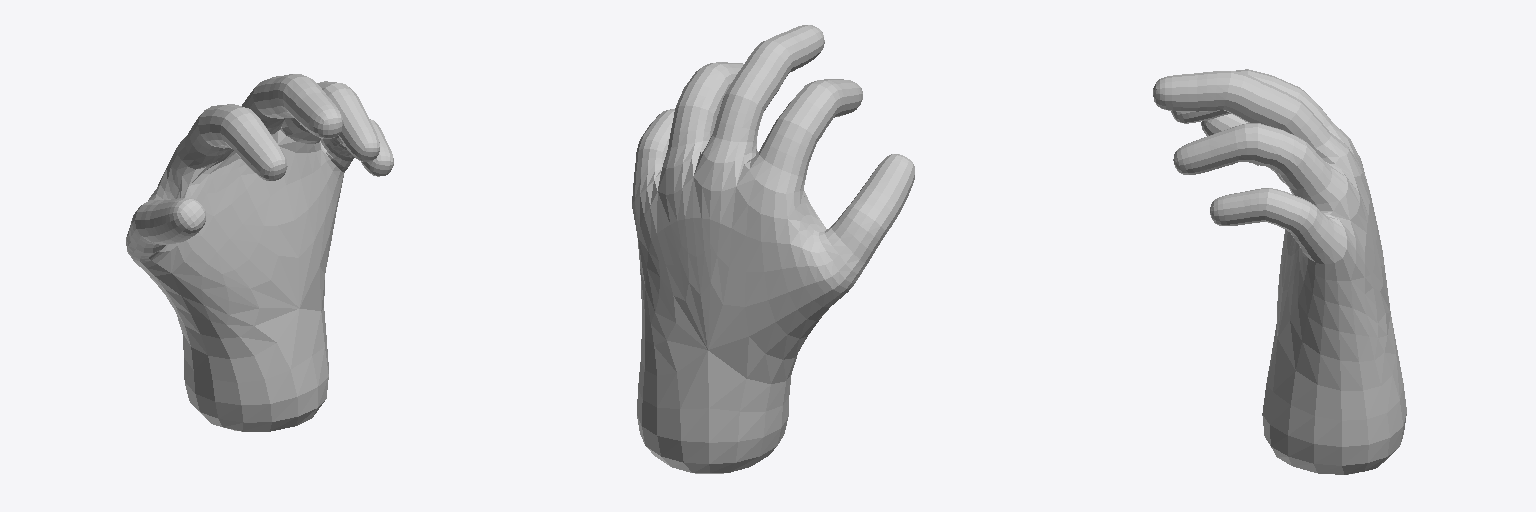
File: handanimatsion29.obj
The picture shows the model from 3 angles: view 1: azimuth 30°, elevation 25°; view 2: azimuth 150°, elevation 25°; view 3: azimuth 270°, elevation 25°; orthographic projection.
Visible parts, largest first — view 1: Cube; view 2: Cube; view 3: Cube.
Part boxes in pixels (x1,y1,x2,y2): Cube: (126,74,393,431); Cube: (632,25,914,473); Cube: (1153,69,1406,474).
Size of the model in its own units: 3.34 by 5.18 by 3.1.